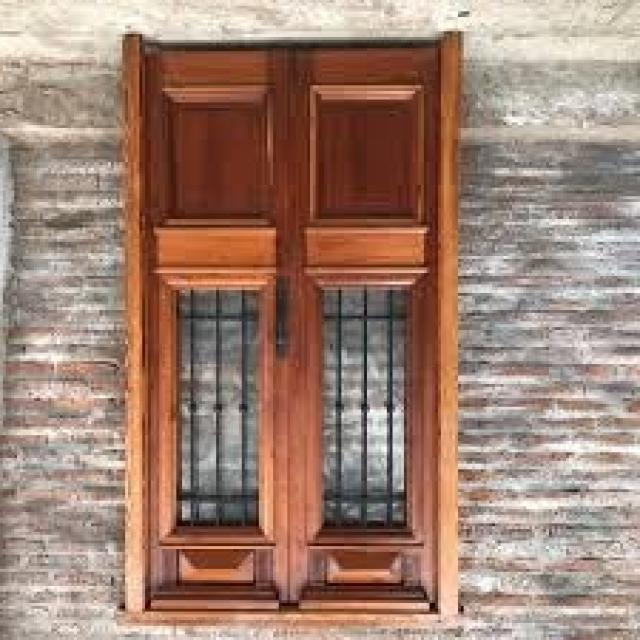door: (125, 36, 455, 622)
